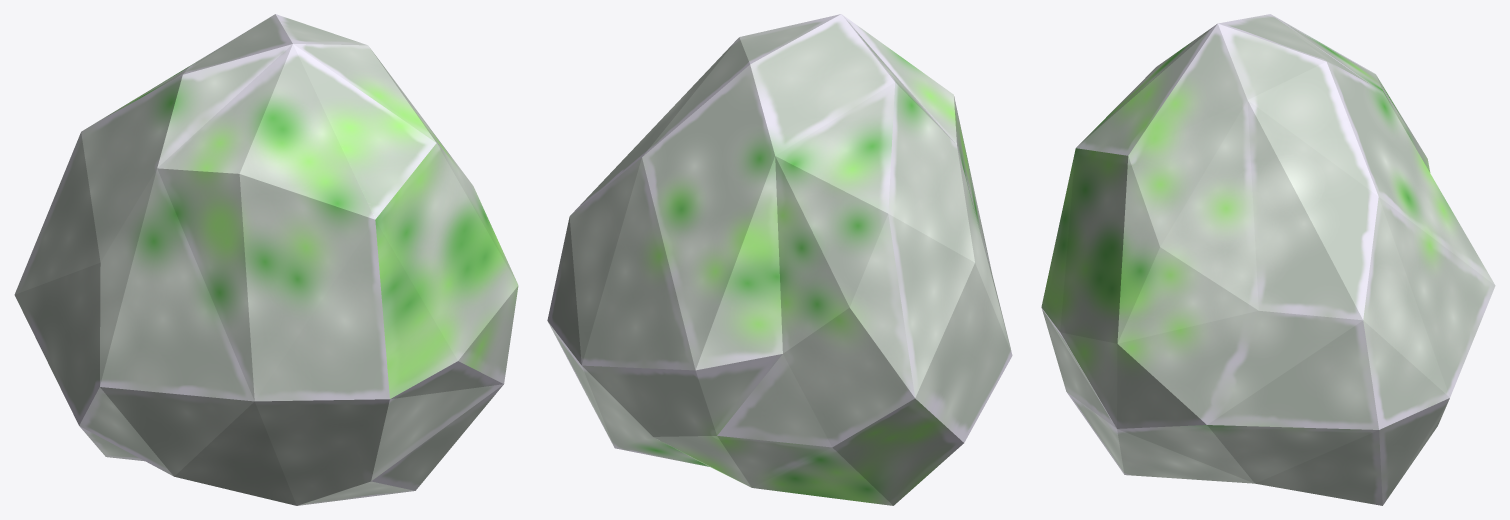
Rendered from rock1.fbx.
3 views of the same model, side by side, from view 1: azimuth 30°, elevation 25°; view 2: azimuth 150°, elevation 25°; view 3: azimuth 270°, elevation 25° (orthographic). The views are drawn at different scales.
Parts seen in each view (by area): view 1: Cube.003; view 2: Cube.003; view 3: Cube.003.
Boxes of the visible parts, <box> form: Cube.003: <box>14,14,518,505</box>; Cube.003: <box>547,14,1012,505</box>; Cube.003: <box>1041,14,1495,505</box>.
Bounding box in the file's own units: 705 × 747 × 703.
